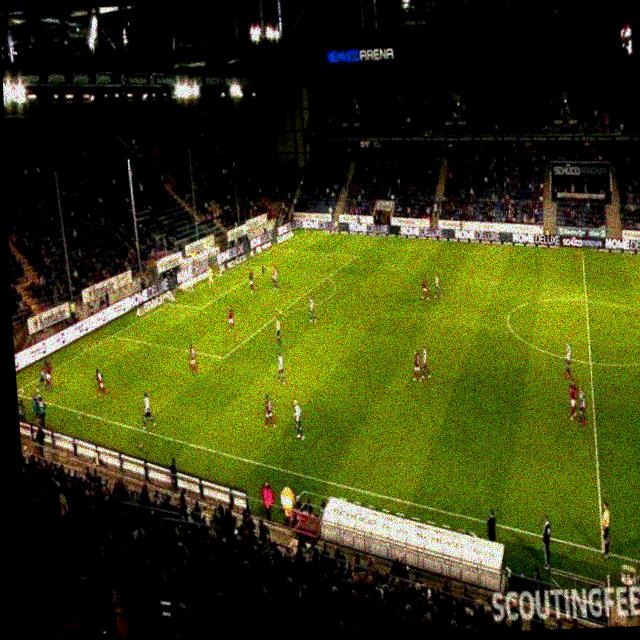bigarea_bottom_inner: (219, 351, 230, 362)
bigarea_bottom_outter: (107, 330, 118, 341)
bigarea_top_inner: (350, 250, 362, 261)
bigarea_top_outter: (268, 243, 279, 254)
bottom_arc_area_intersection: (275, 307, 287, 319)
corner: (299, 228, 311, 239)
halfcircle_bottom: (582, 355, 600, 370)
halfcircle_top: (581, 294, 593, 306)
midline_bottom_intersection: (592, 542, 615, 561)
midline_top_intersection: (576, 245, 589, 257)
smallarea_bottom_outter: (164, 297, 175, 308)
smallarea_top_inner: (261, 261, 273, 273)
smallarea_top_outter: (234, 259, 245, 271)
top_arc_area_intersection: (322, 271, 333, 283)
